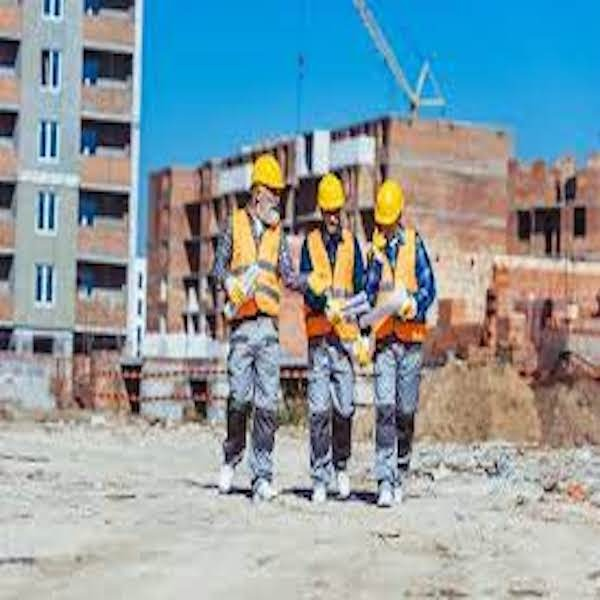helmet: (316, 175, 352, 214), (374, 180, 405, 224), (253, 154, 290, 188)
vest: (228, 209, 286, 326), (305, 228, 362, 347), (370, 230, 425, 327)
